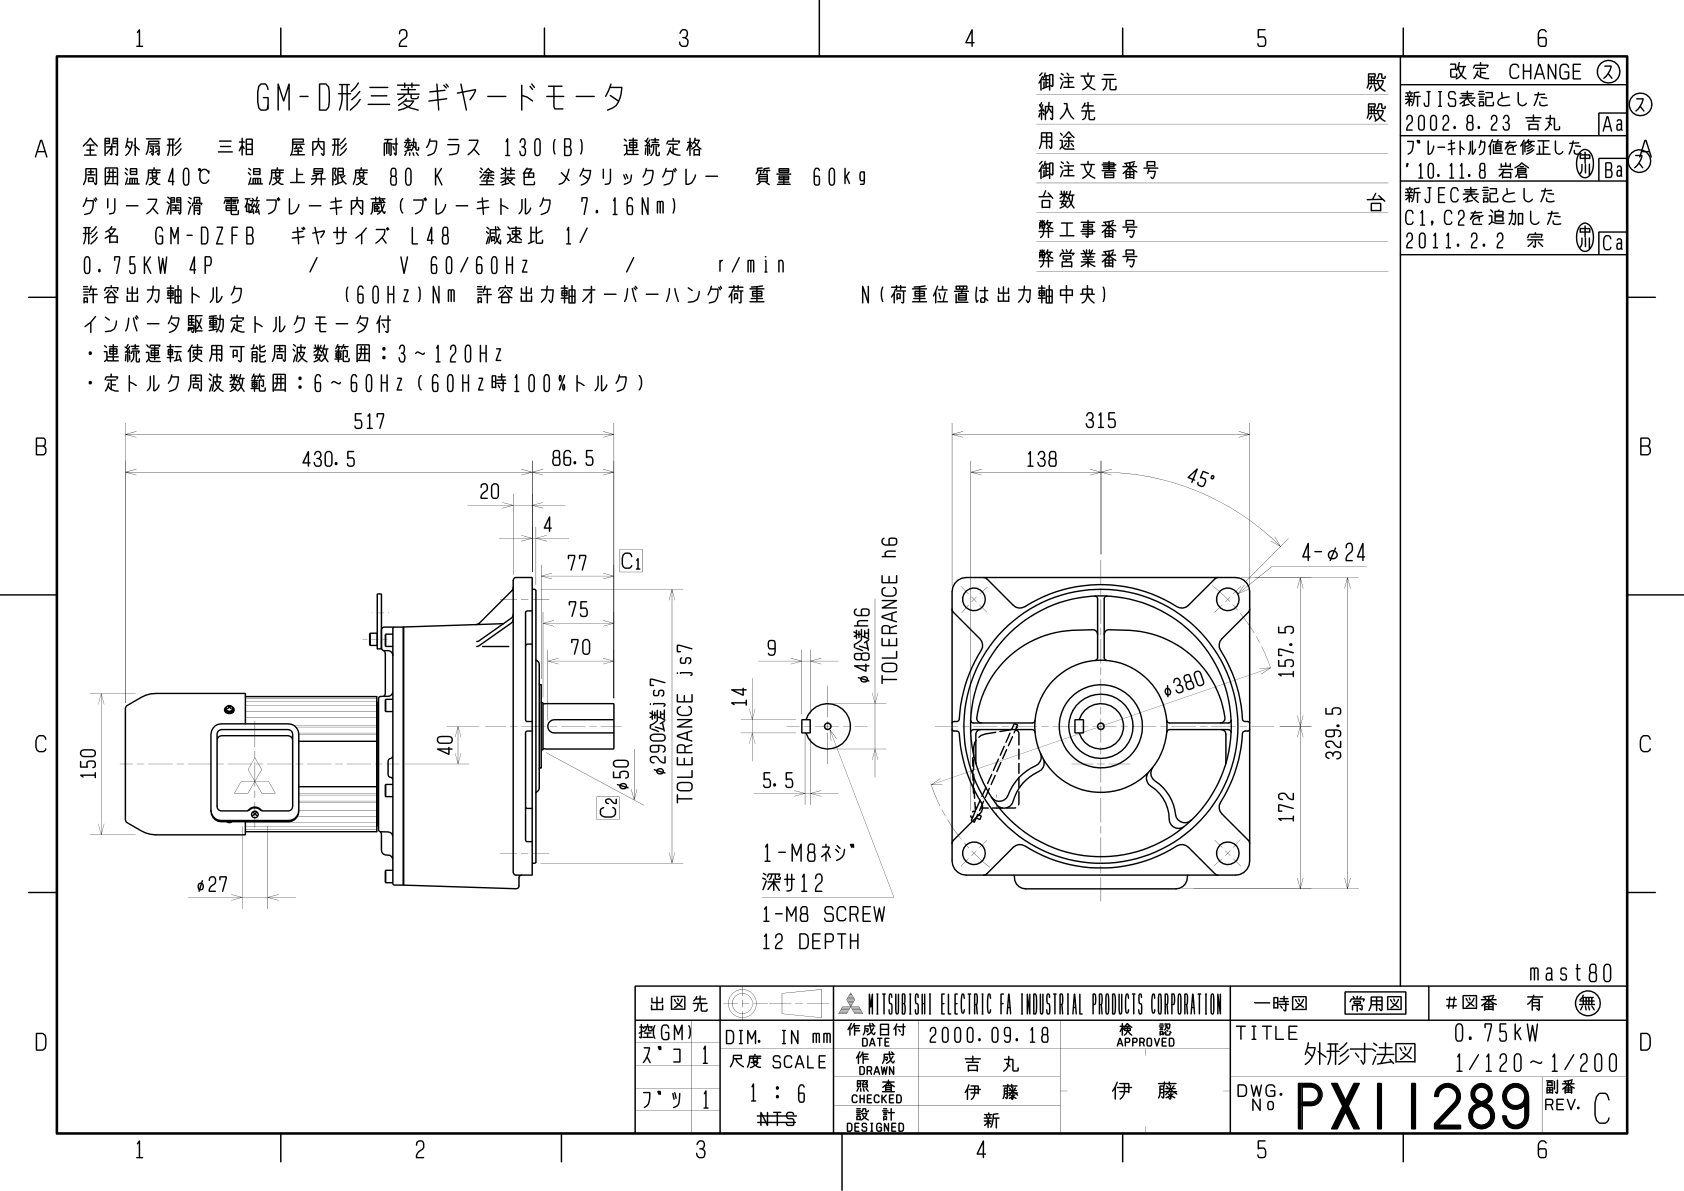GM_D_インバータ屋内_三相_フランジ: (1, 1, 1670, 1174)
